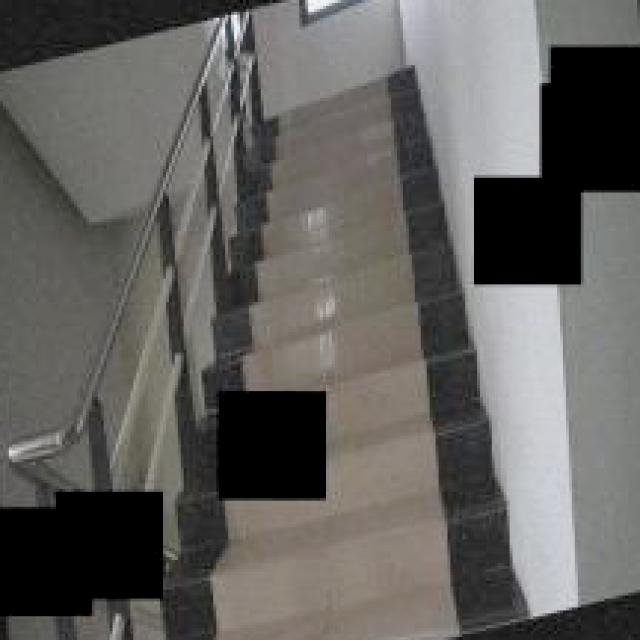upstair: (265, 108, 443, 377)
